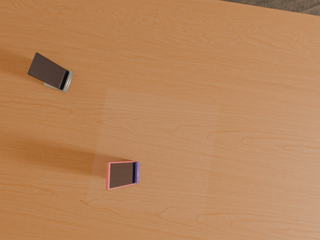phone: (28, 53, 69, 90), (106, 161, 135, 190)
